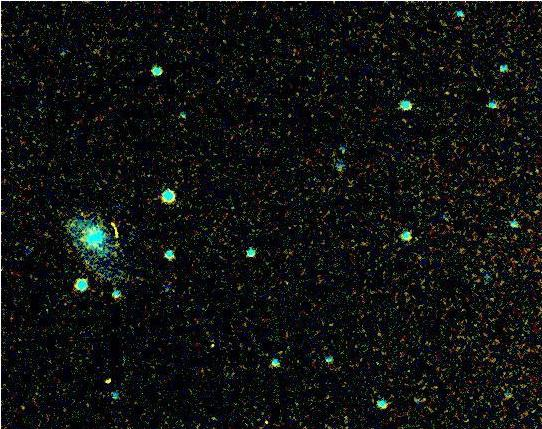star: (87, 363, 117, 393)
